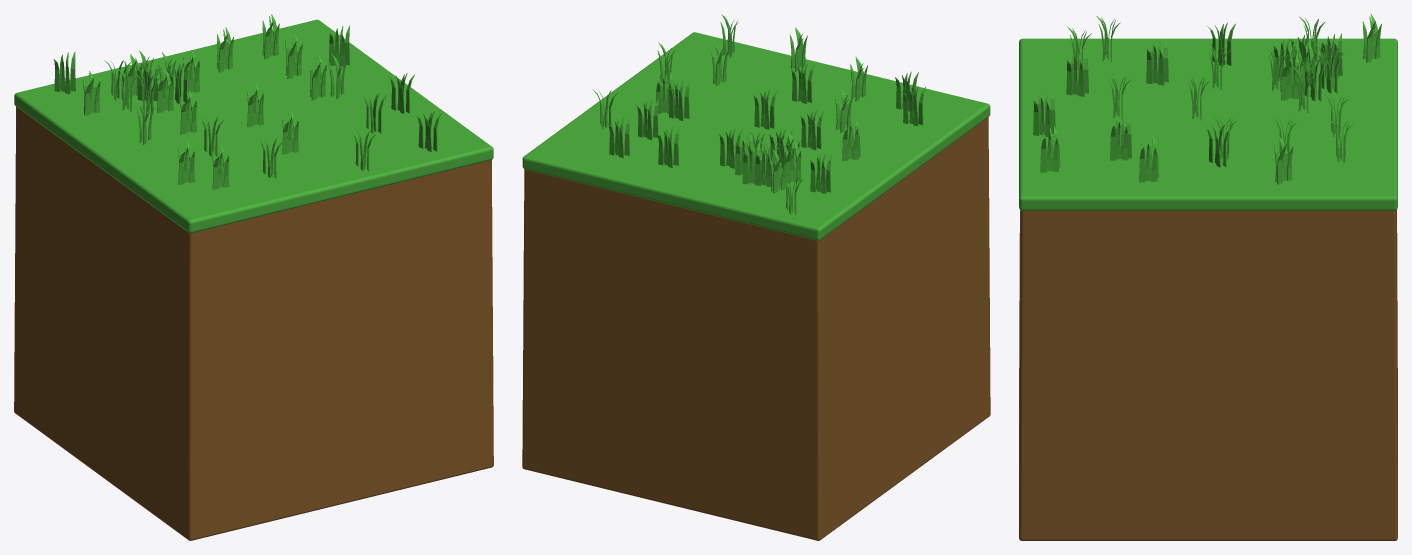
The model's file is Grass1.2.fbx.
The picture shows the model from 3 angles, left to right: view 1: azimuth 30°, elevation 25°; view 2: azimuth 150°, elevation 25°; view 3: azimuth 270°, elevation 25°; orthographic projection. The views are drawn at different scales.
Parts seen in each view (by area): view 1: Cube; view 2: Cube; view 3: Cube.
Boxes of the visible parts, box(x1,y1,x2,y2) form: Cube: box(14, 14, 493, 540); Cube: box(522, 14, 990, 540); Cube: box(1019, 14, 1397, 540).
Bounding box in the file's own units: 4800 × 5368 × 4800.
